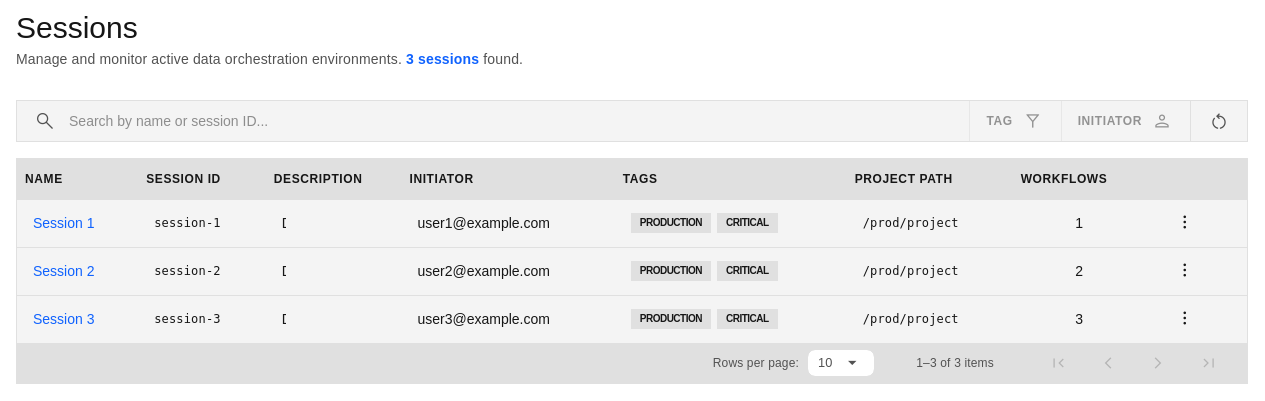
Test: SessionListPage › Search & Filter › should filter by session ID
Check: the text "session-1" is shown, box x1=154 y1=216 x2=221 y2=230
Type "session-2" into the field with placeholder "Search by name or session ID...". click: (511, 121)
box: x1=69 y1=111 x2=952 y2=131
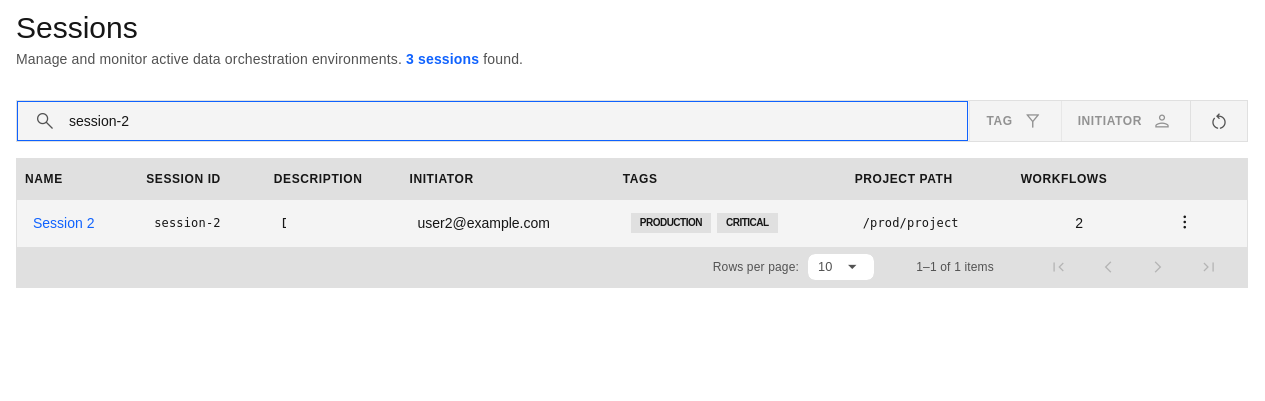
Check: the text "Session 2" is shown, box x1=33 y1=215 x2=94 y2=231
Check: the text "Session 1" is gone
